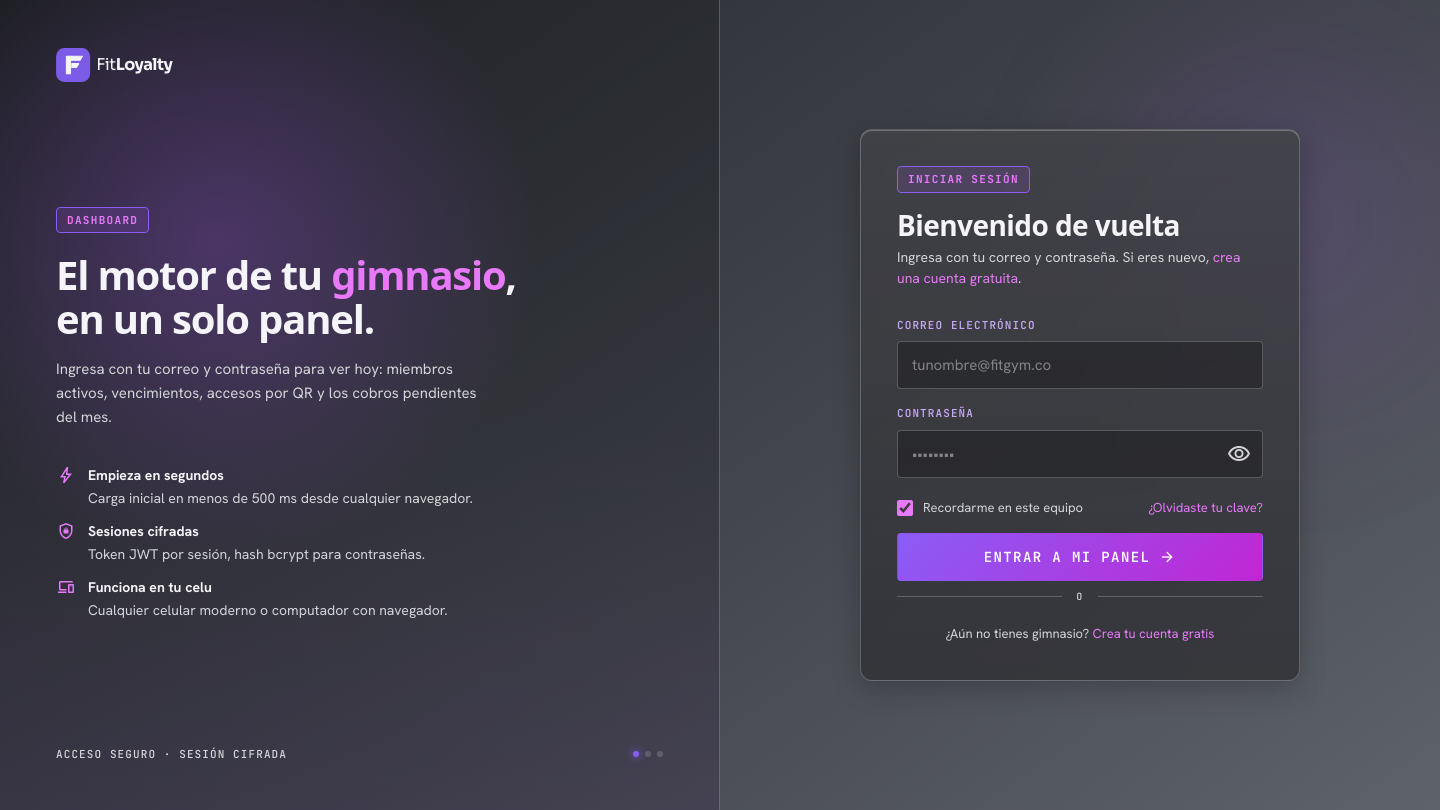
Test: LoginPage › should show the API error and stay on the login when the credentials are wrong
In the field labelled "Correo electrónico": (1080, 365) [897, 341, 1263, 389], type "ana@gym.co"
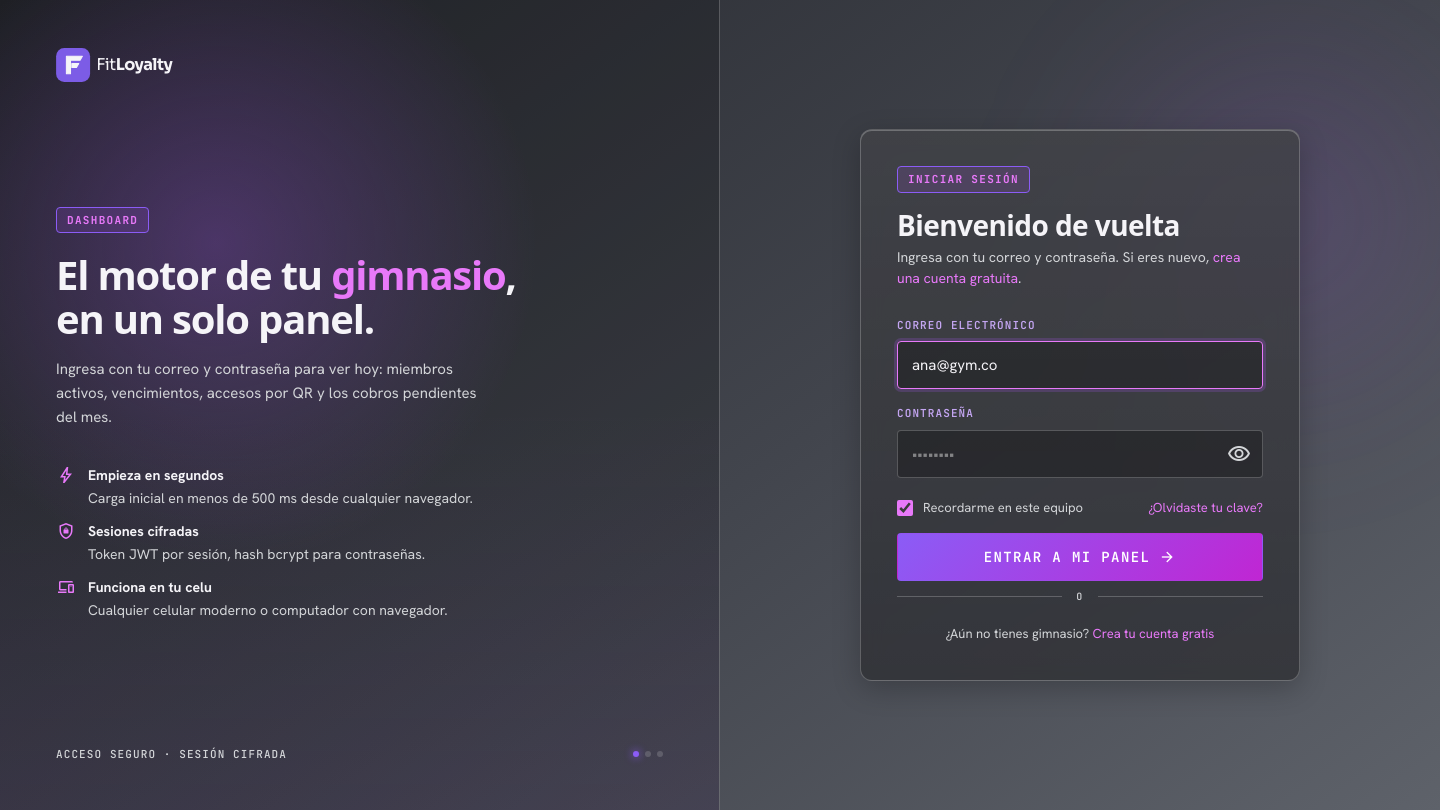
In the password field labelled "Contraseña": (1080, 454) [897, 430, 1263, 478], type "mala"
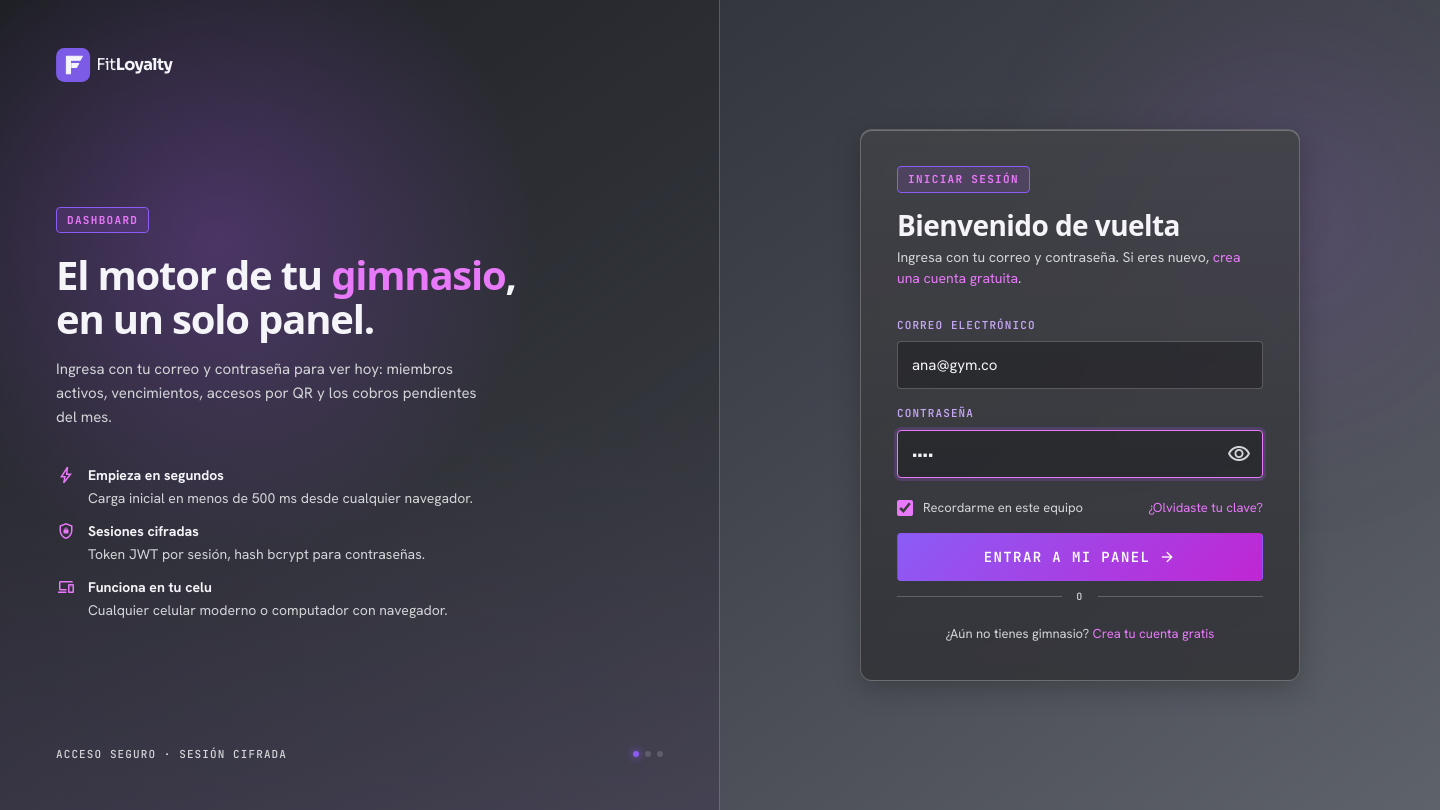
Click the button "Entrar a mi panel": (1080, 557) [897, 533, 1263, 581]
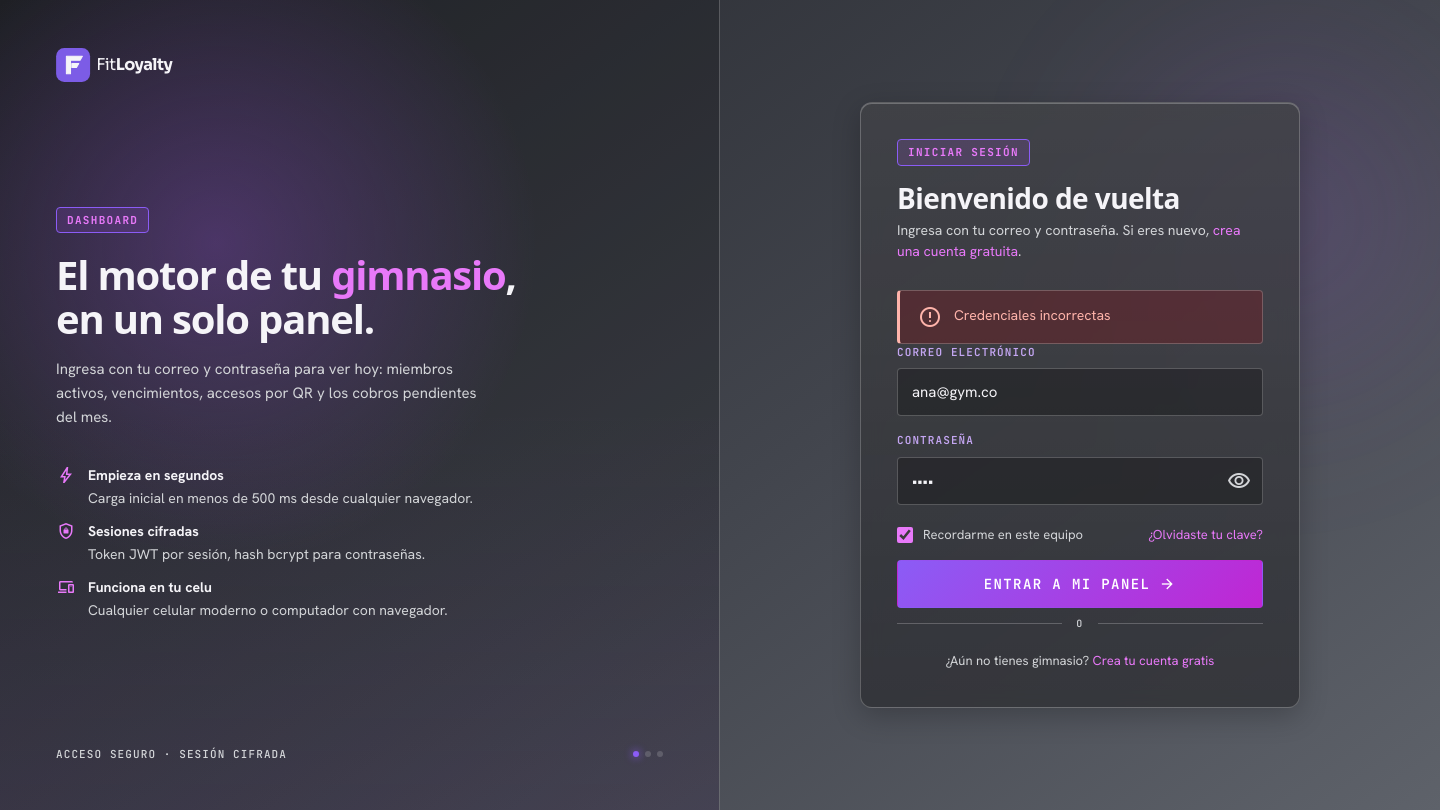
expect the button "Entrar a mi panel" is enabled: met, box [897, 560, 1263, 608]
expect the message reads "Credenciales incorrectas": met, box [954, 306, 1111, 324]
